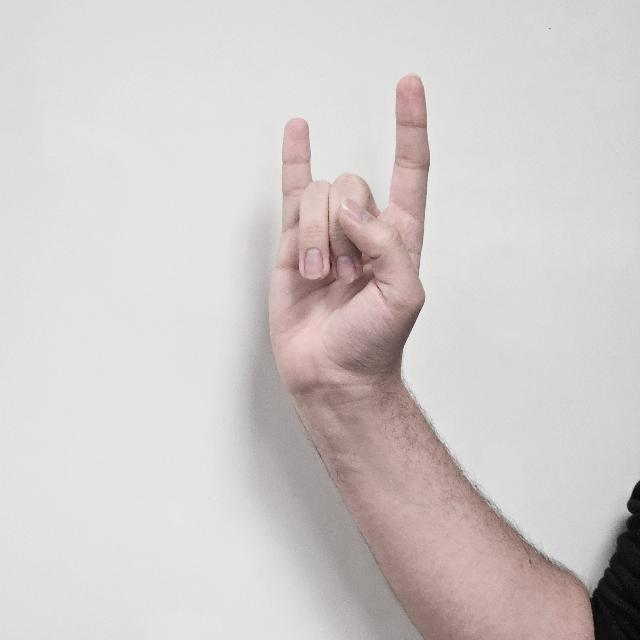L: (266, 72, 444, 412)
